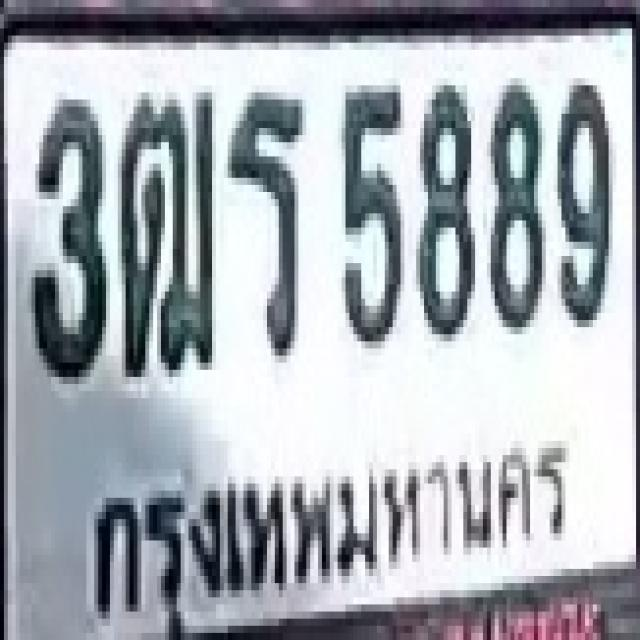-: (118, 85, 212, 370), (224, 86, 302, 356)
3: (28, 92, 102, 377)
5: (338, 78, 400, 342)
8: (416, 78, 471, 334), (487, 78, 542, 327)
9: (554, 78, 608, 320)
BKK: (77, 402, 581, 640)
